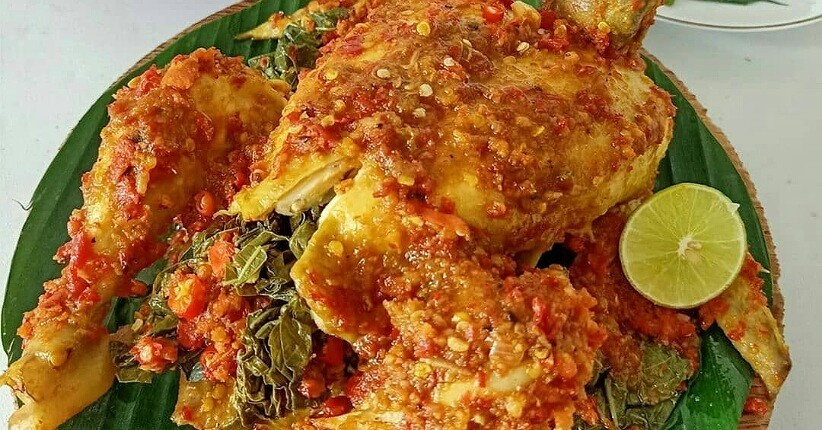ayam_betutu: (16, 1, 618, 430)
